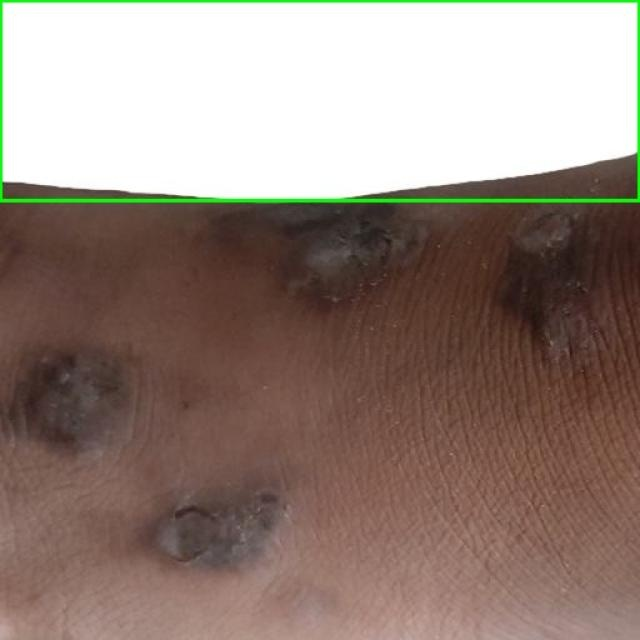Contact Dermatitis: (0, 0, 639, 200)
